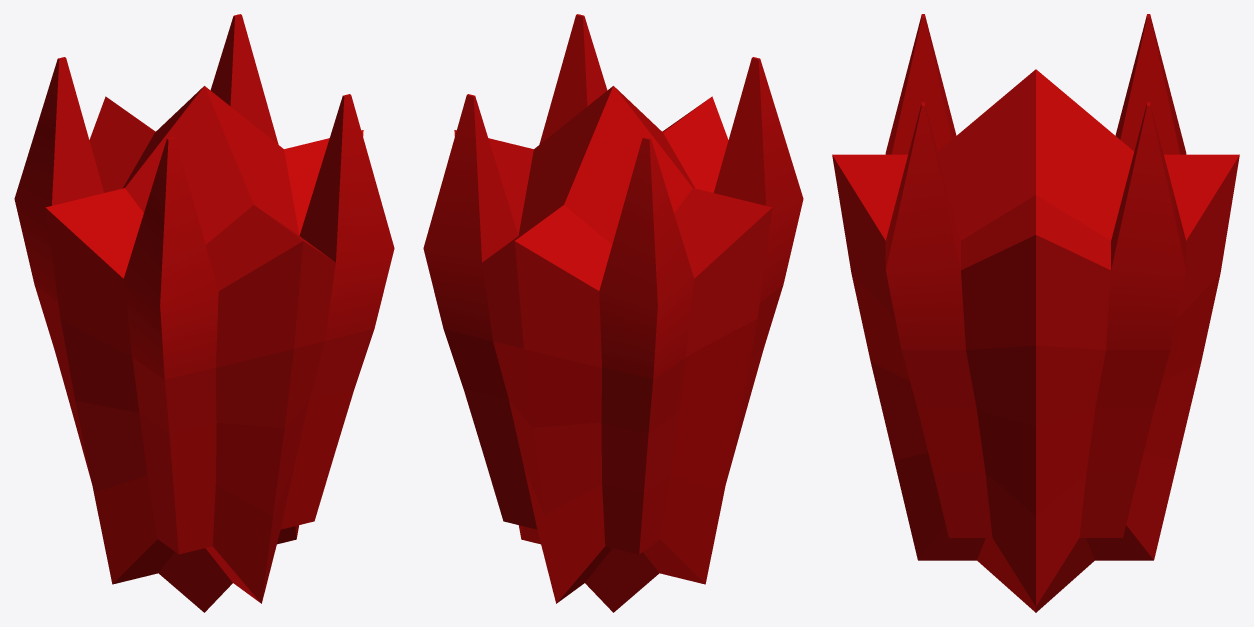
Rendered from SpiderDropPod.fbx.
3 views of the same model, side by side, from view 1: azimuth 30°, elevation 25°; view 2: azimuth 150°, elevation 25°; view 3: azimuth 270°, elevation 25° (orthographic). The views are drawn at different scales.
Parts seen in each view (by area): view 1: pCube1; view 2: pCube1; view 3: pCube1.
Boxes of the visible parts, bbox=[...] form: pCube1: bbox=[14, 14, 394, 612]; pCube1: bbox=[423, 14, 803, 612]; pCube1: bbox=[832, 14, 1239, 612].
Bounding box in the file's own units: 250 × 402 × 269.
